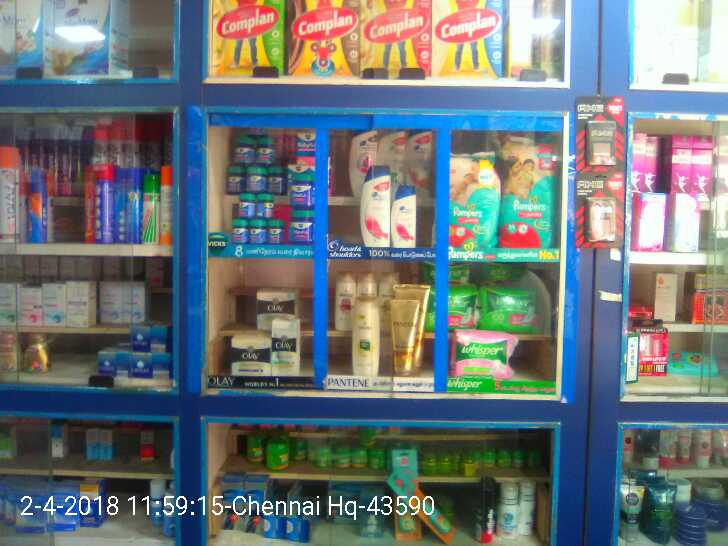vicks: (222, 135, 314, 242)
